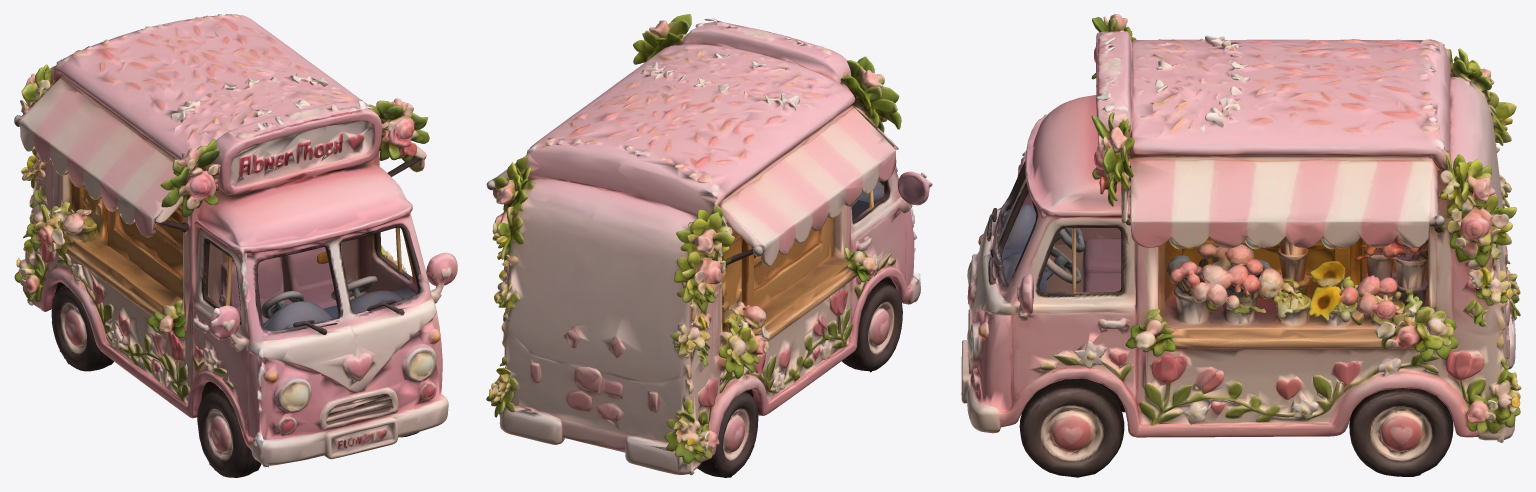
File: flower_truck_light.glb
The picture shows the model from 3 angles, left to right: view 1: azimuth 30°, elevation 25°; view 2: azimuth 150°, elevation 25°; view 3: azimuth 270°, elevation 25°; orthographic projection. The views are drawn at different scales.
Parts seen in each view (by area): view 1: tripo_node_57f3a364-b926-4d4c-959f-3f3a8d1eefda; view 2: tripo_node_57f3a364-b926-4d4c-959f-3f3a8d1eefda; view 3: tripo_node_57f3a364-b926-4d4c-959f-3f3a8d1eefda.
Part boxes in pixels (x1=…): tripo_node_57f3a364-b926-4d4c-959f-3f3a8d1eefda: x1=14, y1=14, x2=457, y2=477; tripo_node_57f3a364-b926-4d4c-959f-3f3a8d1eefda: x1=486, y1=14, x2=932, y2=477; tripo_node_57f3a364-b926-4d4c-959f-3f3a8d1eefda: x1=961, y1=14, x2=1521, y2=477.
Bounding box in the file's own units: 0.6417 × 0.7278 × 0.9999.
Materials: 1 (1 with a texture image).
